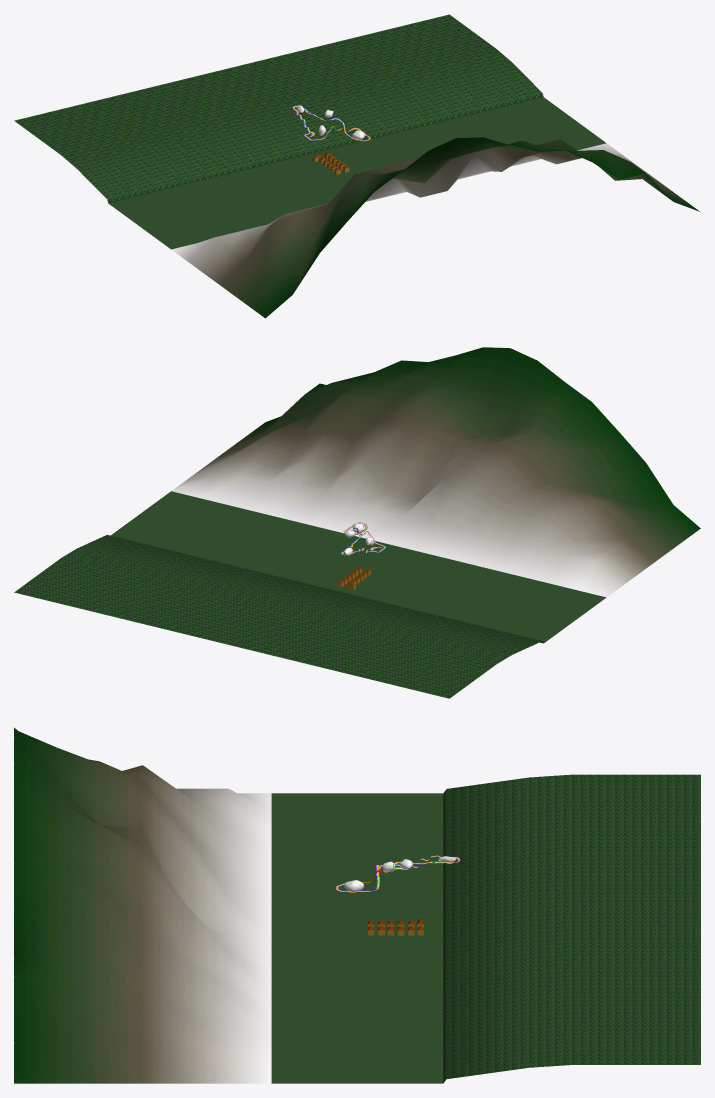
The picture shows the model from 3 angles, top to bottom: view 1: azimuth 30°, elevation 25°; view 2: azimuth 150°, elevation 25°; view 3: azimuth 270°, elevation 25°; orthographic projection. The views are drawn at different scales.
Visible parts, largest first — view 1: forest_flat, Plane002, mountain.002; view 2: mountain.002, forest_flat, Plane002; view 3: mountain.002, forest_flat, Plane002.
Part boxes in pixels (x1,y1,x2,y2): forest_flat: (14, 14, 543, 203); Plane002: (108, 97, 606, 249); mountain.002: (171, 137, 699, 318); mountain.002: (171, 347, 700, 597); forest_flat: (14, 535, 543, 698); Plane002: (111, 491, 606, 643); mountain.002: (14, 727, 271, 1083); forest_flat: (443, 774, 700, 1083); Plane002: (271, 793, 443, 1083).
Size of the model in its own units: 600887 by 176527 by 600887.
11 materials, 11 textured.
